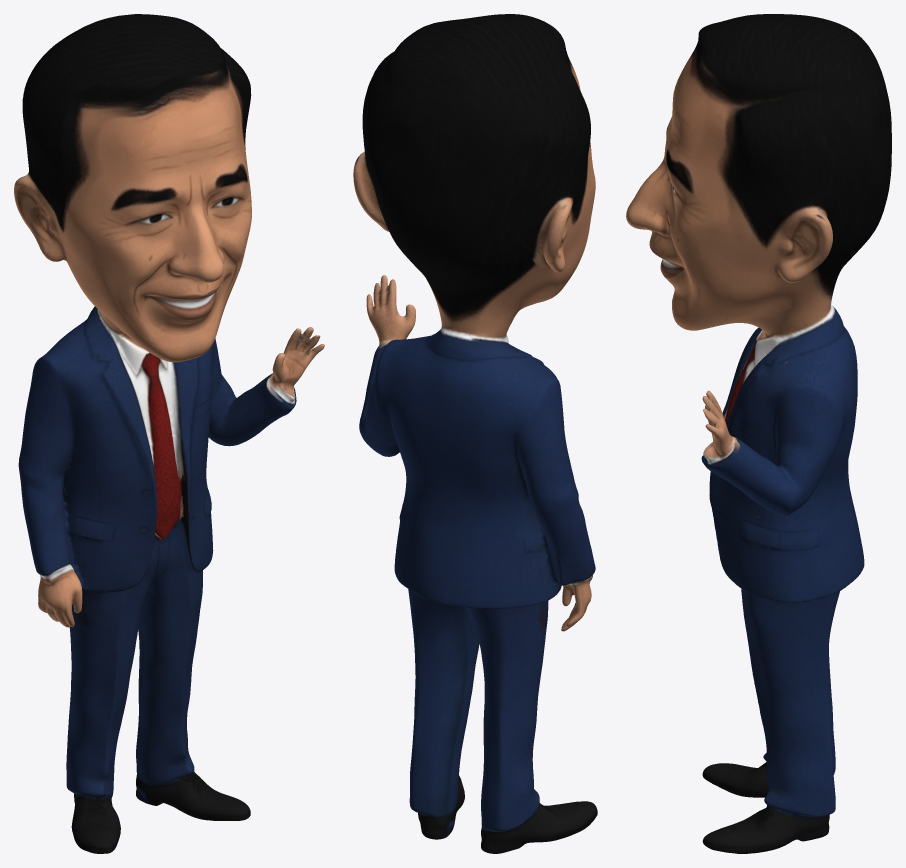
The model's file is owi berdiri.glb.
The picture shows the model from 3 angles, left to right: view 1: azimuth 30°, elevation 25°; view 2: azimuth 150°, elevation 25°; view 3: azimuth 270°, elevation 25°; orthographic projection.
Bounding box in the file's own units: 0.6442 × 1.9 × 0.5755.
1 material, 1 textured.
